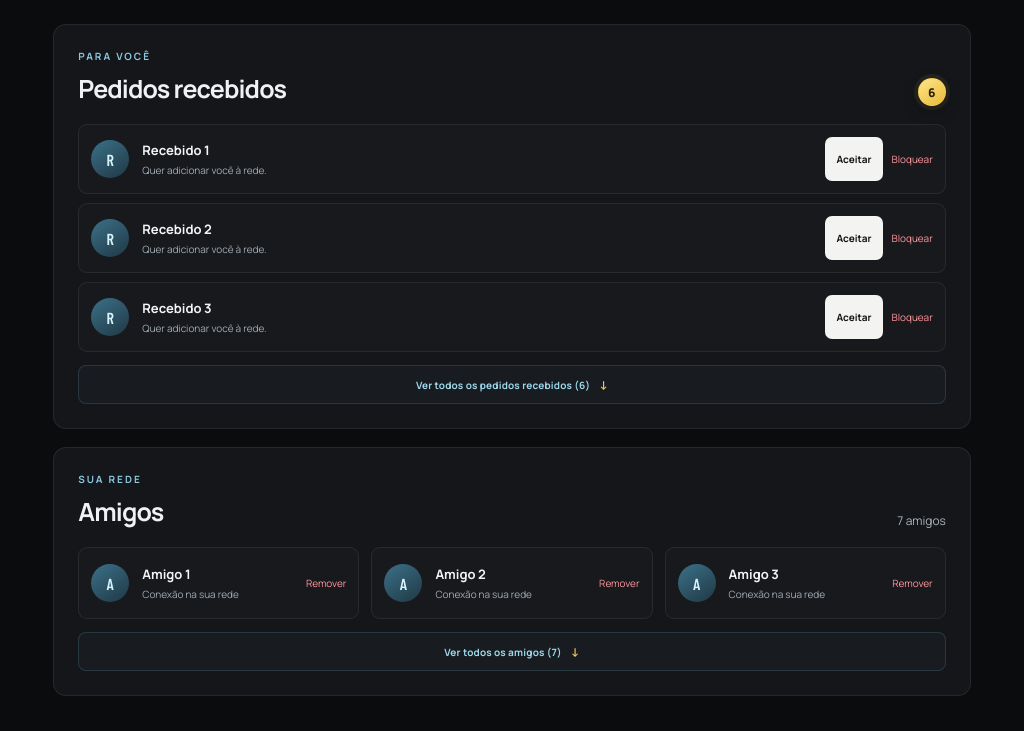
limita cada bloco a três itens e permite revelar a coleção completa
The width and height of the screenshot is (1024, 731).
(page scrolled)
Expected: the number of buttons named "Ver perfil de Recebido" is 3, [91,140,812,178]; [91,219,812,257]; [91,298,812,336]
Click the button "Ver todos os pedidos recebidos (6) ↓": (512, 384) [78,365,946,404]
(page scrolled)
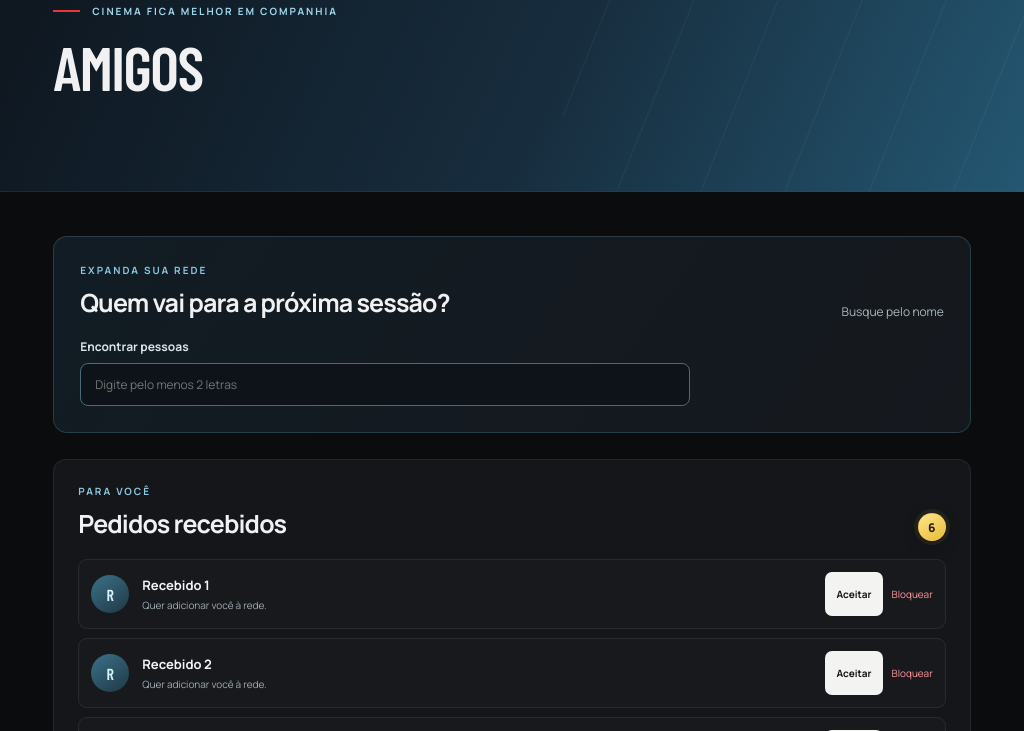
In the search field labelled "Encontrar pessoas": (385, 384) [80,363,690,406], type "Pe"
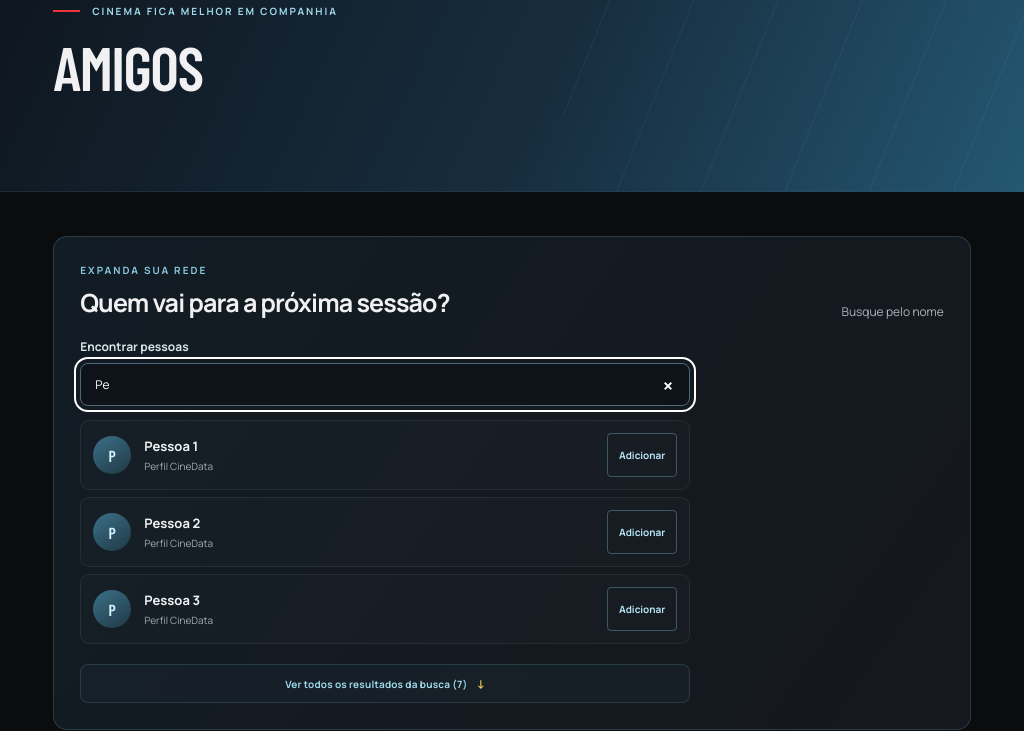
Now the button with aria-label "Ver perfil de Pessoa 1" is shown, box [93,436,594,474]
Now the number of buttons named "Ver perfil de Pessoa" is 3, box [93,436,594,474]; [93,513,594,551]; [93,590,594,628]
Now the button "Ver todos os resultados da busca (7) ↓" is shown, box [80,664,690,703]
